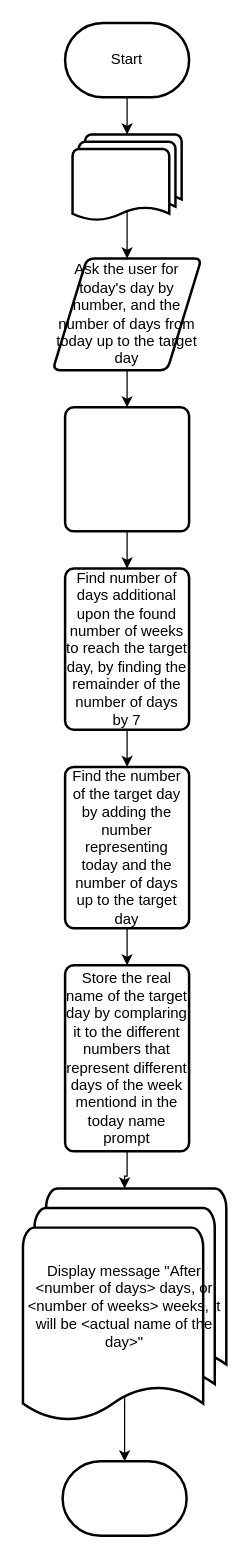
The diagram is 248 pixels wide and 1557 high, and some of its shapes have lost their labels. The shapes that lost their labels are listed below. From the top down, each one's centre as x and y in pixels, then its label:
the point at 126,177: Display program instructions
the point at 126,468: Divide the given number of days by 7 to find the number of weeks implied
the point at 124,1497: End
